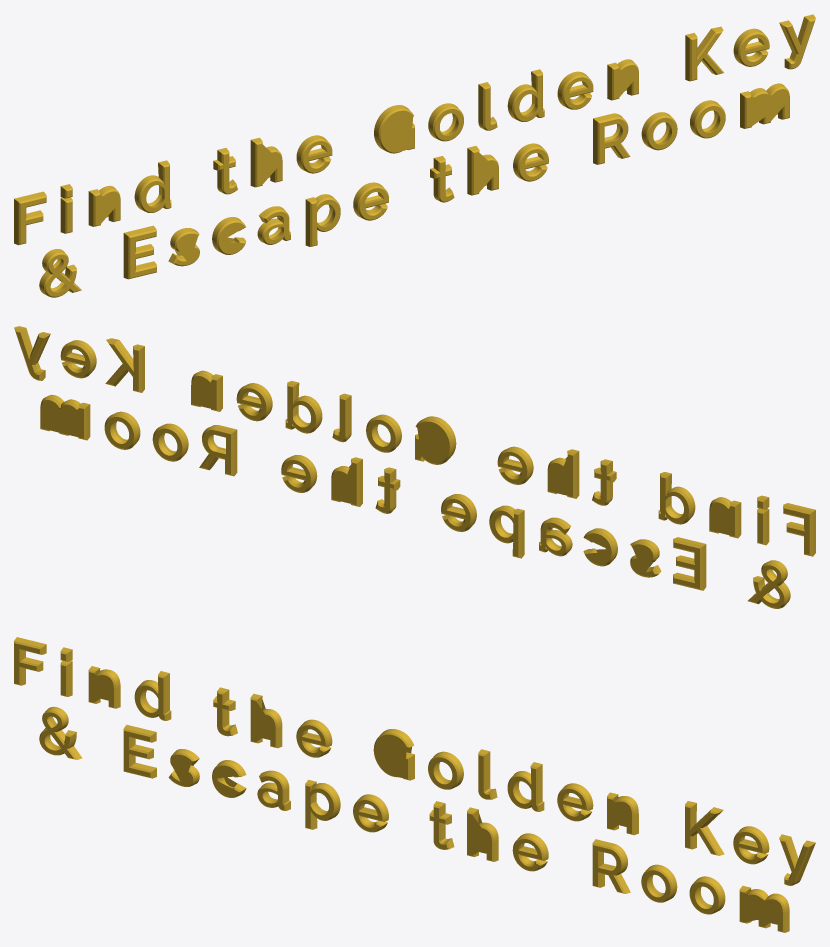
File: loading_title.fbx
3 views of the same model, one above another, from view 1: azimuth 30°, elevation 25°; view 2: azimuth 150°, elevation 25°; view 3: azimuth 330°, elevation 25° (orthographic).
Parts seen in each view (by area): view 1: Cap_1_8, Cap_1_30, Cap_1_6, Cap_1_25, Cap_1_3, Cap_1_13, Cap_1_27, Cap_1_17, E, Cap_1_19, Cap_1_4, Cap_1_11 (+2 smaller); view 2: Cap_2_30, Cap_2_8, Cap_2_25, Cap_2_6, Cap_2_13, Cap_2_3, Cap_2_17, Rounding_2_18, Cap_2_27, Rounding_2_14, Cap_2_19, Cap_2_22; view 3: Cap_1_8, Cap_1_30, Cap_1_25, Cap_1_6, Cap_1_13, Cap_1_3, Cap_1_17, Cap_1_27, E, R, Cap_1_4, Cap_1_19.
Boxes of the visible parts, bbox=[...] form: Cap_1_8: bbox=[380, 110, 414, 152]; Cap_1_30: bbox=[746, 89, 789, 127]; Cap_1_6: bbox=[257, 144, 281, 186]; Cap_1_25: bbox=[474, 152, 498, 194]; Cap_1_3: bbox=[95, 191, 119, 225]; Cap_1_13: bbox=[614, 65, 638, 99]; Cap_1_27: bbox=[599, 119, 628, 163]; Cap_1_17: bbox=[46, 254, 79, 296]; E: bbox=[123, 225, 156, 278]; Cap_1_19: bbox=[176, 233, 199, 265]; Cap_1_4: bbox=[141, 166, 170, 212]; Cap_1_11: bbox=[514, 75, 543, 121]; Cap_2_30: bbox=[41, 400, 83, 438]; Cap_2_8: bbox=[416, 421, 449, 463]; Cap_2_25: bbox=[332, 462, 356, 504]; Cap_2_6: bbox=[548, 454, 572, 496]; Cap_2_13: bbox=[192, 376, 216, 409]; Cap_2_3: bbox=[710, 502, 734, 536]; Cap_2_17: bbox=[750, 565, 784, 607]; Rounding_2_18: bbox=[673, 539, 703, 590]; Cap_2_27: bbox=[202, 430, 230, 474]; Rounding_2_14: bbox=[105, 340, 141, 392]; Cap_2_19: bbox=[631, 544, 654, 575]; Cap_2_22: bbox=[490, 510, 518, 556]; Cap_1_8: bbox=[374, 734, 407, 779]; Cap_1_30: bbox=[740, 892, 782, 931]; Cap_1_25: bbox=[467, 813, 491, 860]; Cap_1_6: bbox=[251, 699, 275, 746]; Cap_1_13: bbox=[607, 798, 631, 833]; Cap_1_3: bbox=[89, 672, 113, 707]; Cap_1_17: bbox=[40, 712, 73, 758]; Cap_1_27: bbox=[593, 845, 622, 892]; E: bbox=[124, 724, 156, 778]; R: bbox=[593, 839, 630, 893]; Cap_1_4: bbox=[135, 677, 164, 719]; Cap_1_19: bbox=[169, 754, 192, 786].
Bounding box in the file's own units: 2947 × 419 × 37.
